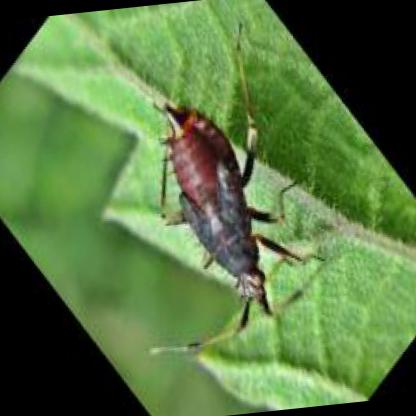uroleucon compositae: (163, 105, 297, 345)
